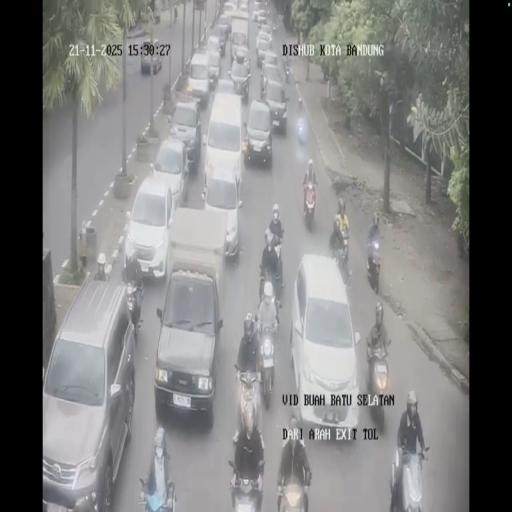car: (41, 272, 136, 506), (290, 255, 358, 437), (153, 266, 223, 424), (202, 162, 241, 256), (152, 136, 190, 205), (262, 72, 288, 131), (186, 50, 213, 102), (229, 51, 251, 98), (140, 39, 162, 74), (205, 35, 223, 72), (261, 48, 280, 80), (217, 13, 232, 45), (259, 22, 273, 40), (257, 9, 267, 24), (239, 0, 249, 14)
motorcycle: (389, 436, 427, 510), (276, 443, 311, 510), (253, 317, 279, 406), (365, 335, 391, 421), (228, 450, 264, 509), (138, 463, 177, 511), (123, 272, 144, 340), (330, 232, 352, 287), (258, 250, 278, 302), (366, 233, 382, 292), (302, 182, 317, 230), (281, 52, 291, 82)
